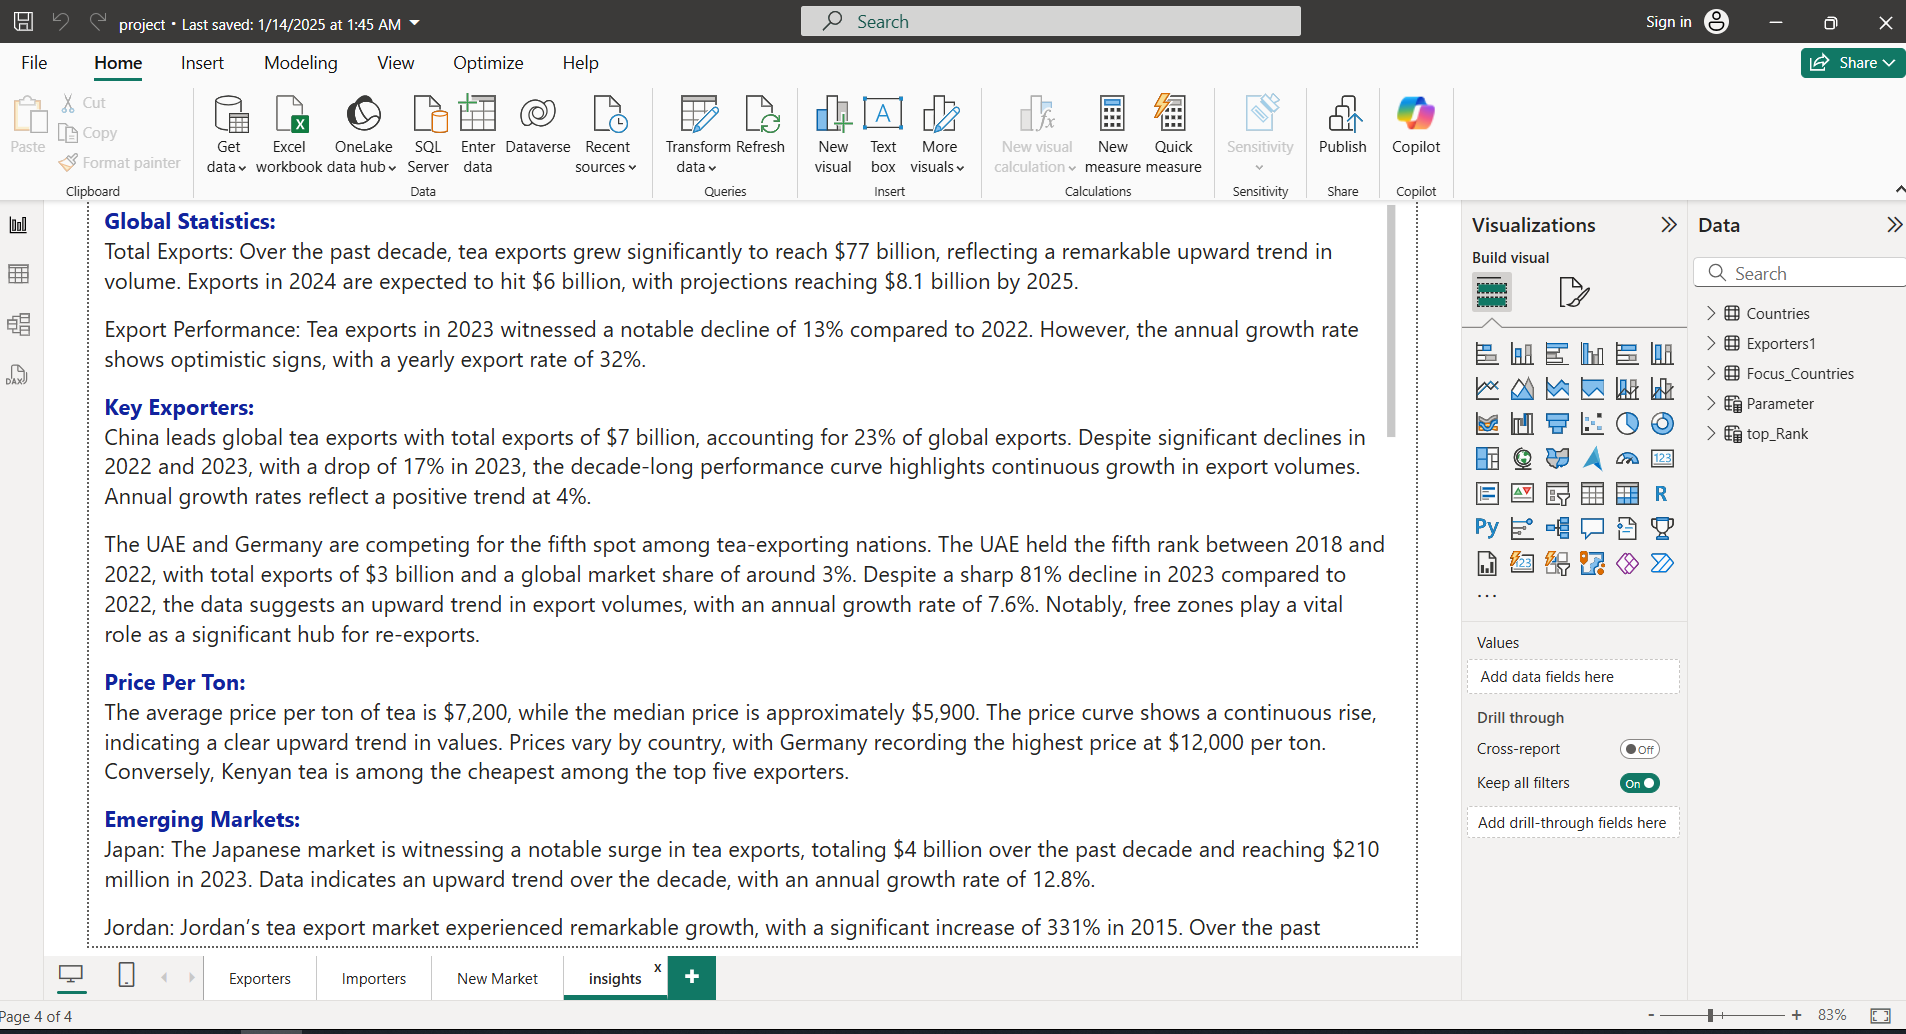

Layout of this report page (visuals, bound fields, positions):
{"tool":"powerbi","page":{"name":"insights","canvas":[1280,720],"ordinal":3},"visuals":[{"type":"textbox","box":[9.7,0,1255.9,720.2],"z":0}]}

Visuals, with their boxes in screenshot pixels (x1, y1, x2, y2):
textbox: bbox=(207, 40, 1905, 1022)
